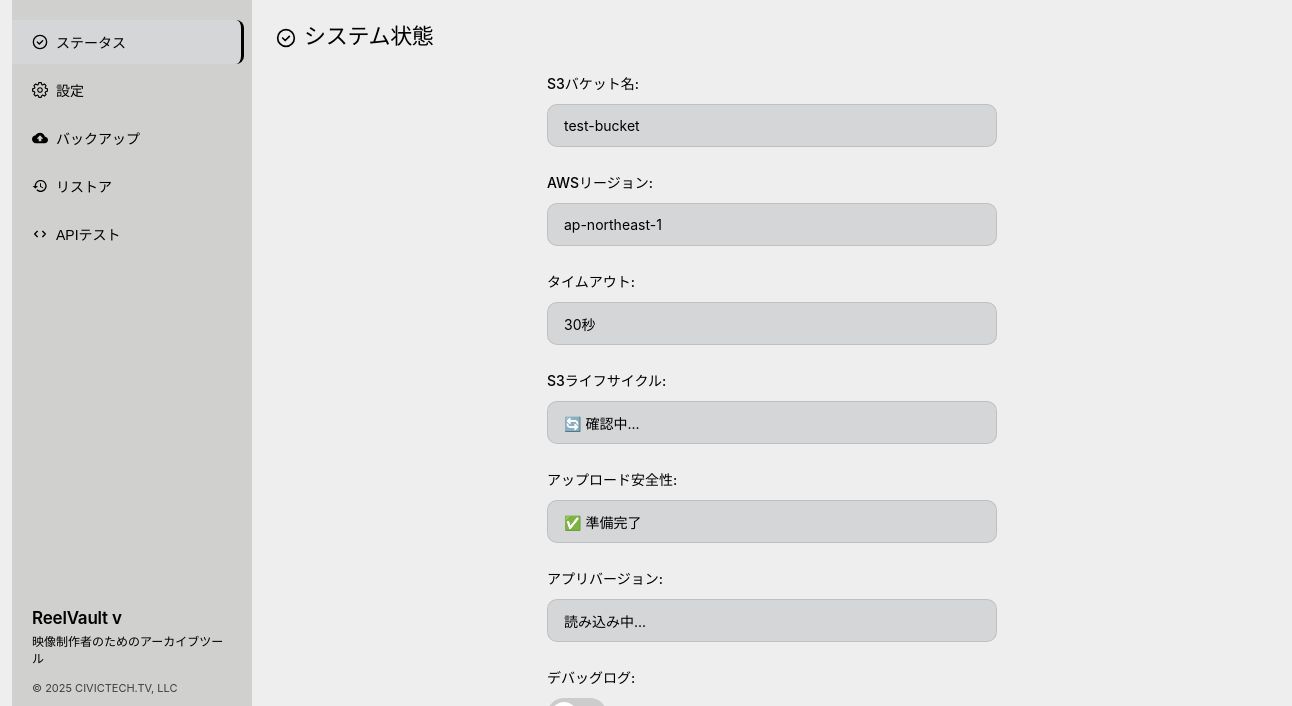
ConfigManager › should handle lifecycle management functionality
Note: 設定タブに切り替え
Click the button "設定": (128, 90) [12,68,244,112]
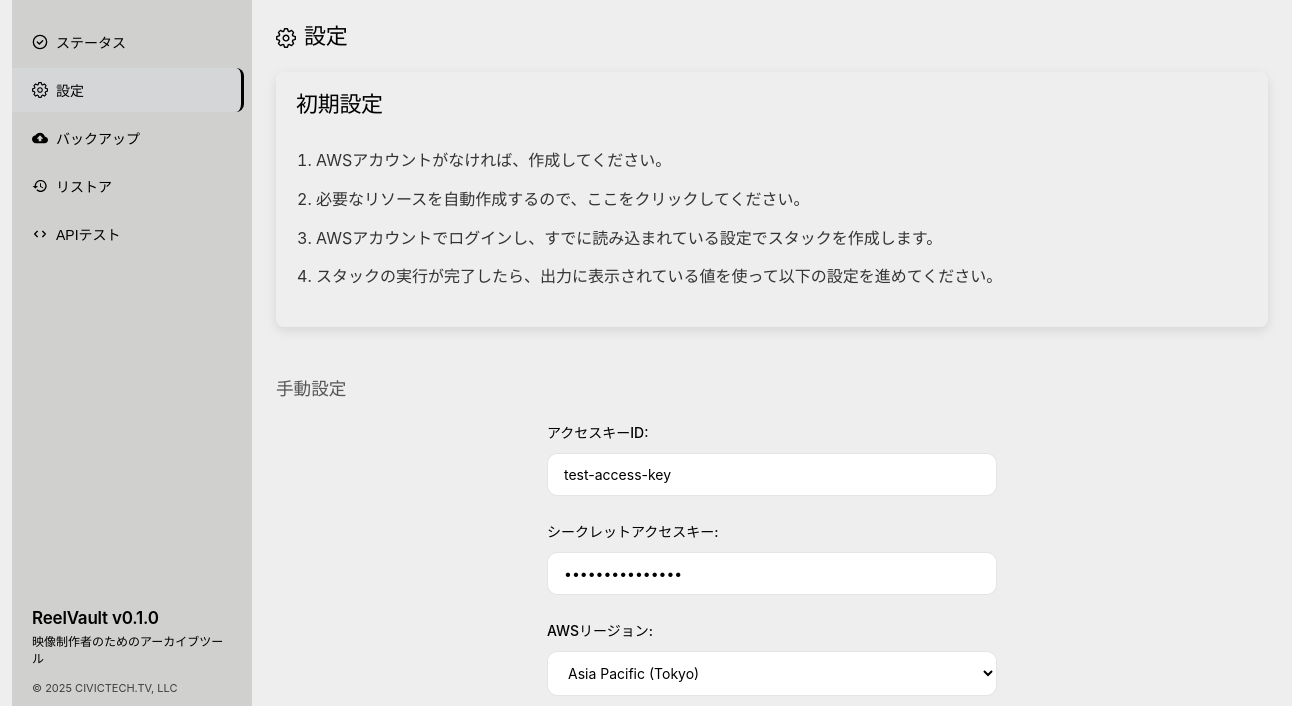
Result: the field showing "test-access-key" is shown at [547,453,997,496]
Result: the password field showing "test-secret-key" is shown at [547,552,997,595]
Result: the dropdown labelled "AWSリージョン:" shows "Asia Pacific (Tokyo)" at [547,651,997,696]
